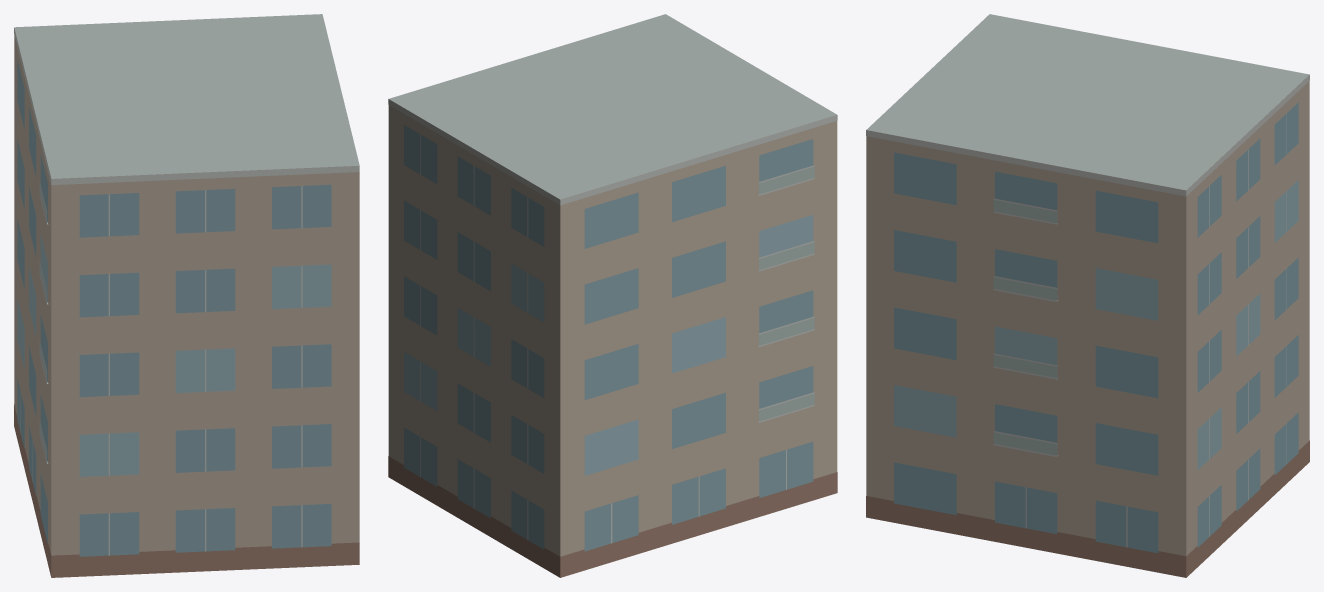
File: survey-upis-32532000.glb
3 views of the same model, side by side, from view 1: azimuth 30°, elevation 25°; view 2: azimuth 150°, elevation 25°; view 3: azimuth 270°, elevation 25° (orthographic). The views are drawn at different scales.
Visible parts, largest first — view 1: survey-upis-32532000.tmp; view 2: survey-upis-32532000.tmp; view 3: survey-upis-32532000.tmp.
Part boxes in pixels (bbox=[...]): survey-upis-32532000.tmp: bbox=[14, 14, 359, 577]; survey-upis-32532000.tmp: bbox=[388, 14, 837, 577]; survey-upis-32532000.tmp: bbox=[866, 14, 1309, 577].
Size of the model in its own units: 15.29 by 15.65 by 16.25.
